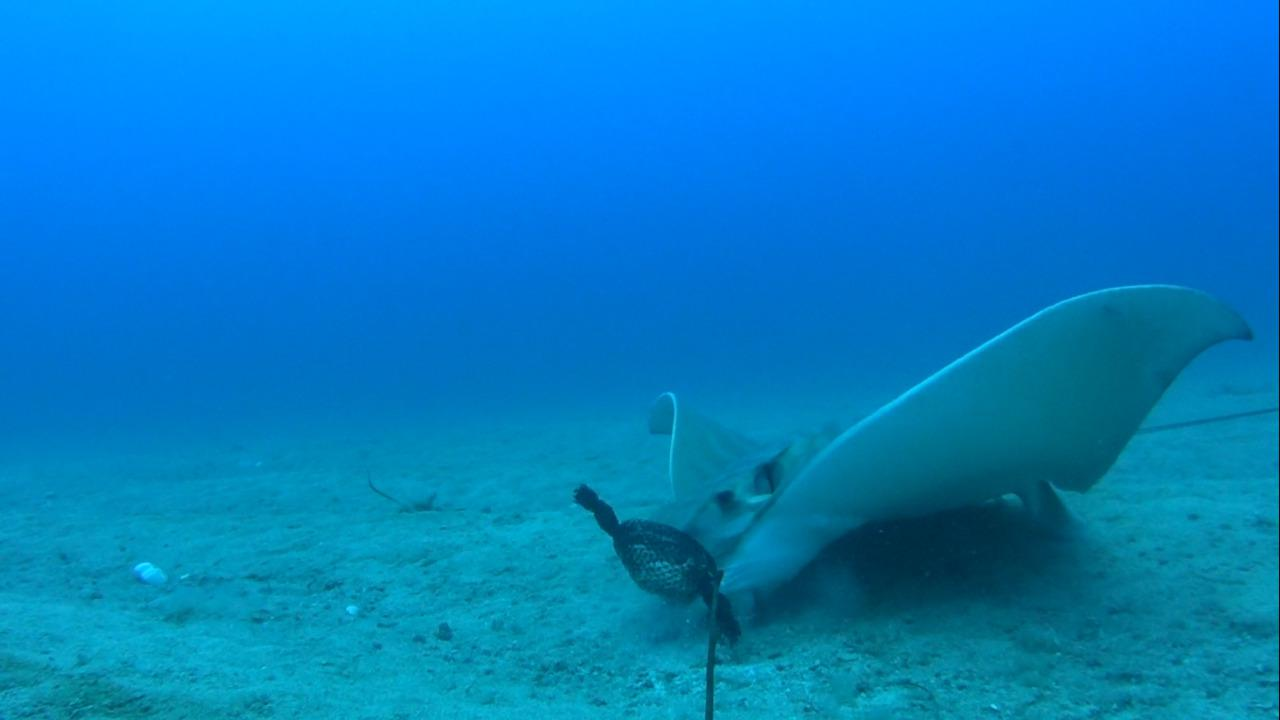myliobatis: (633, 278, 1279, 620)
